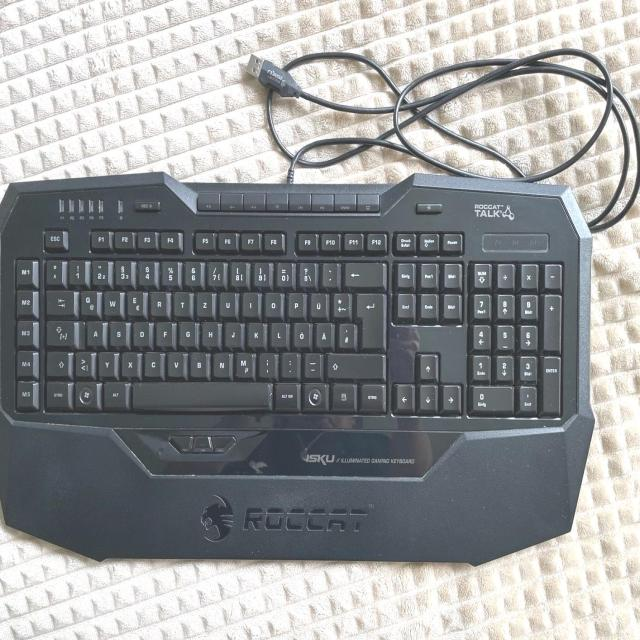0: (275, 258, 292, 286)
1: (68, 257, 86, 283)
2: (91, 257, 109, 284)
3: (113, 257, 131, 285)
4: (137, 257, 155, 285)
5: (160, 258, 178, 285)
6: (184, 258, 202, 285)
7: (206, 258, 224, 286)
8: (229, 258, 247, 286)
9: (251, 258, 270, 285)
a: (86, 319, 102, 345)
accent: (321, 259, 337, 285)
ae: (314, 320, 332, 347)
alt-left: (102, 379, 126, 407)
altgr-right: (274, 380, 298, 408)
b: (189, 350, 208, 376)
c: (143, 349, 162, 375)
caret: (44, 257, 62, 283)
comma: (258, 350, 275, 376)
d: (131, 319, 149, 345)
del: (343, 258, 383, 285)
e: (125, 288, 143, 314)
enter: (354, 289, 384, 347)
f: (155, 319, 172, 345)
g: (177, 319, 195, 345)
h: (201, 319, 219, 345)
hash: (336, 320, 354, 347)
i: (241, 289, 257, 315)
j: (223, 319, 241, 345)
k: (247, 319, 264, 345)
keyboard: (1, 184, 576, 434)
l: (269, 320, 285, 346)
less: (74, 349, 93, 375)
m: (233, 350, 253, 376)
minus: (303, 350, 321, 376)
n: (212, 350, 230, 376)
o: (263, 289, 281, 315)
oe: (292, 320, 310, 346)
p: (286, 290, 303, 316)
plus: (331, 289, 348, 317)
point: (280, 350, 298, 376)
q: (79, 287, 97, 313)
r: (149, 288, 167, 314)
s: (108, 319, 126, 345)
shift-left: (46, 349, 70, 375)
shift-lock: (45, 318, 75, 345)
shift-right: (326, 351, 382, 377)
space: (130, 379, 268, 407)
ss: (297, 259, 315, 286)
strg-left: (45, 382, 69, 410)
strg-right: (359, 381, 385, 410)
t: (173, 289, 189, 315)
tab: (45, 288, 75, 314)
u: (218, 289, 236, 315)
ue: (308, 290, 326, 317)
v: (166, 349, 184, 375)
w: (102, 288, 120, 314)
x: (120, 349, 138, 375)
y: (97, 349, 114, 375)
z: (195, 289, 213, 315)
